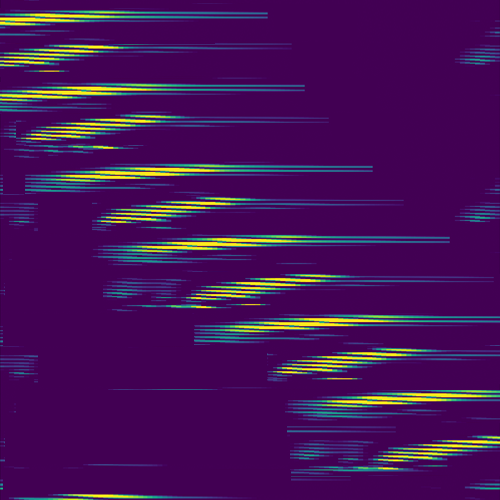semblance: (19, 111, 190, 154), (350, 430, 500, 475), (183, 273, 343, 311), (273, 344, 433, 382), (96, 194, 262, 226), (1, 40, 131, 75), (221, 313, 399, 337), (1, 79, 165, 104), (54, 162, 238, 184), (135, 232, 306, 255), (316, 388, 494, 410), (1, 8, 141, 28)
